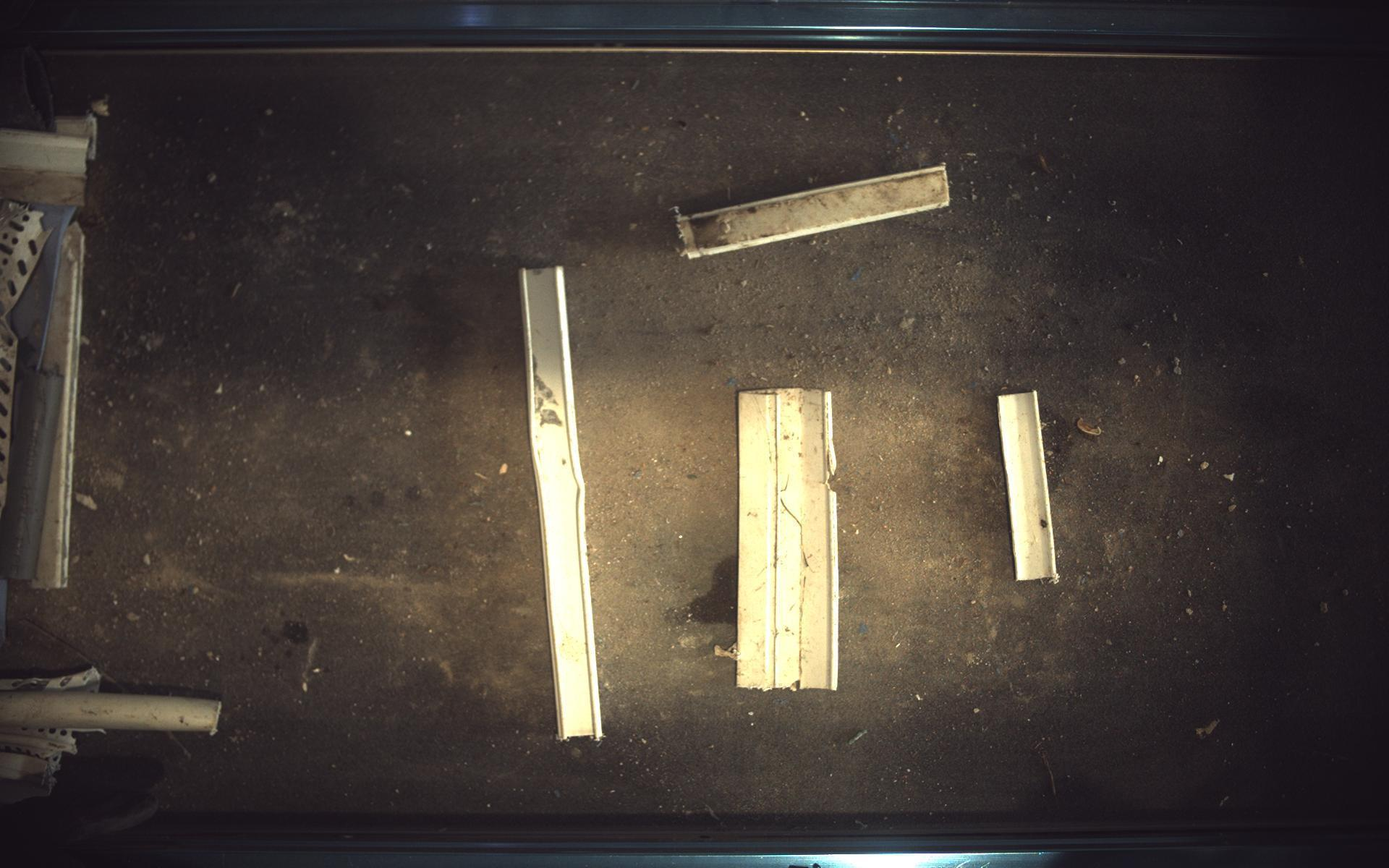pipes: (1, 368, 62, 580), (1, 692, 220, 736), (1, 45, 54, 131)
plastic: (519, 266, 603, 741), (738, 388, 840, 691), (677, 163, 951, 258), (30, 221, 83, 590), (1, 198, 48, 513), (1000, 391, 1061, 584), (1, 128, 88, 174), (1, 751, 64, 803), (1, 167, 83, 205), (1, 667, 100, 693), (1, 668, 100, 694), (1, 728, 75, 762), (54, 113, 95, 160)
